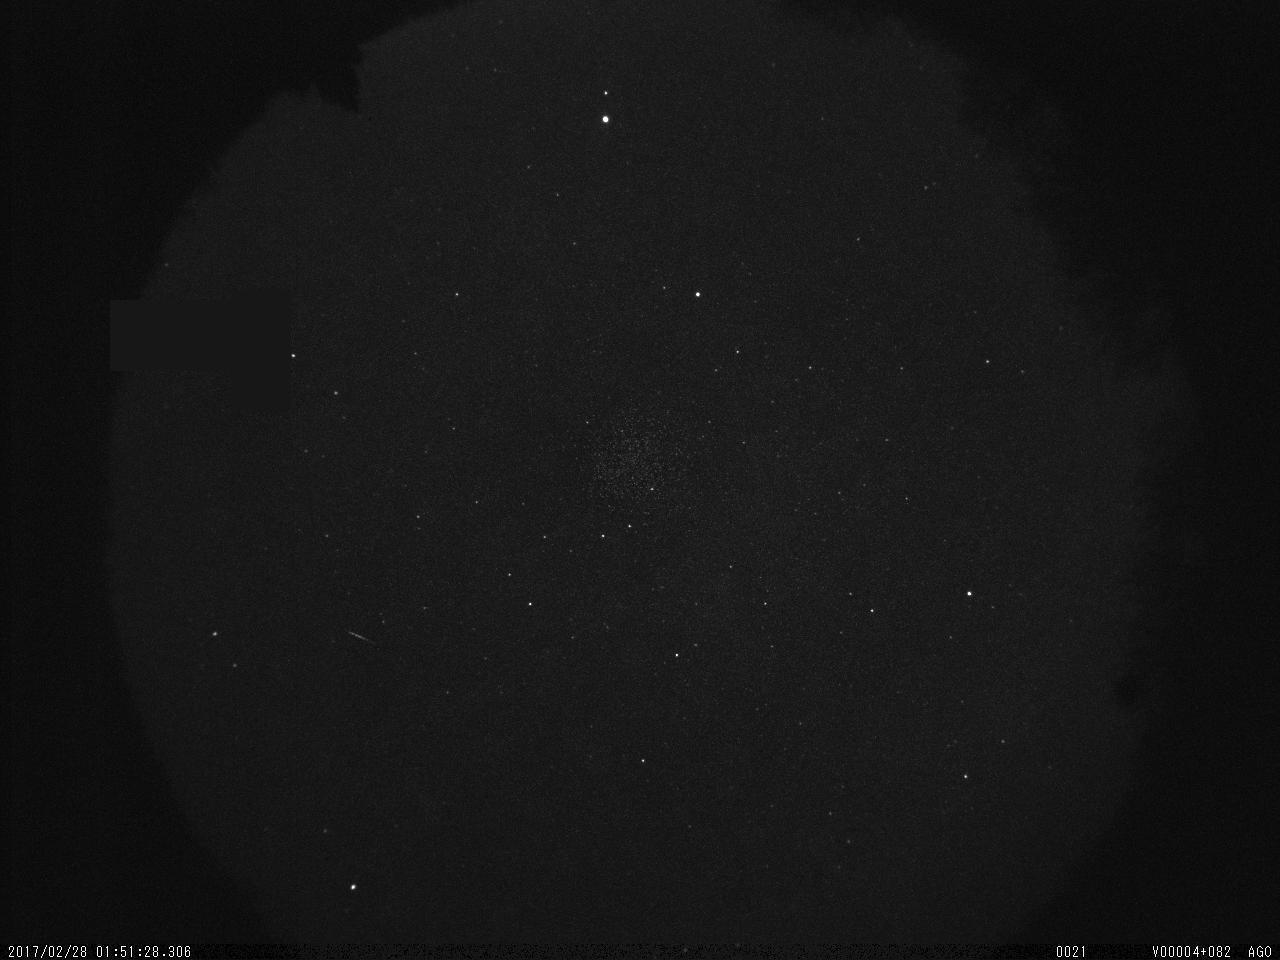Meteor: (344, 626, 375, 644)
